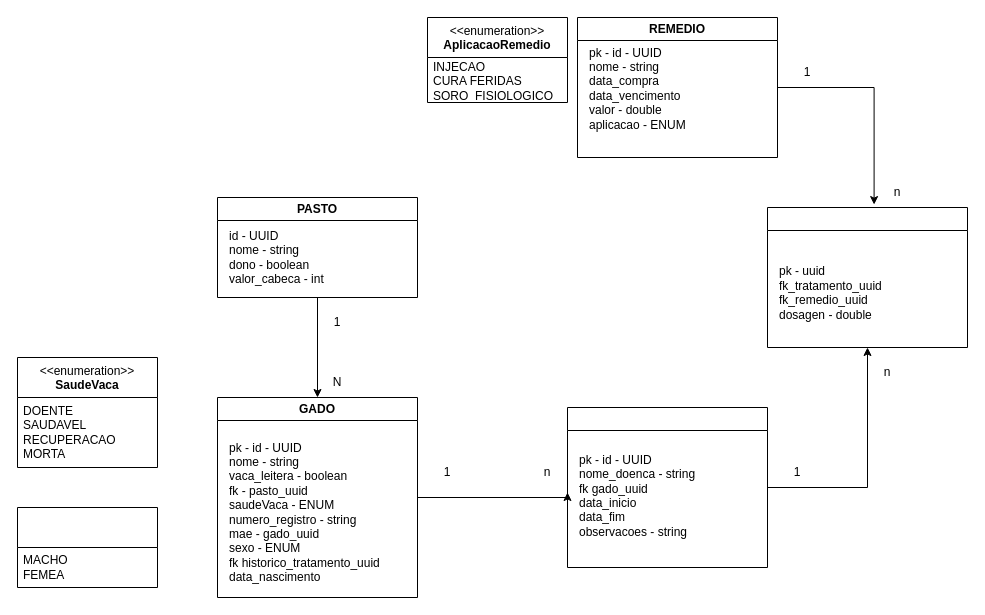
Some shapes in this 985 by 615 pixel diagram are drawn without their labels. The shapes that lost their labels are listed below. From the top down, each one's box as (x1, y1, x2, y2) in pixels, then its label:
(766, 206, 968, 348): TRATAMENTO_REMEDIO
(566, 406, 768, 568): TRATAMENTO
(16, 506, 158, 588): <<enumeration>> SexoVaca
